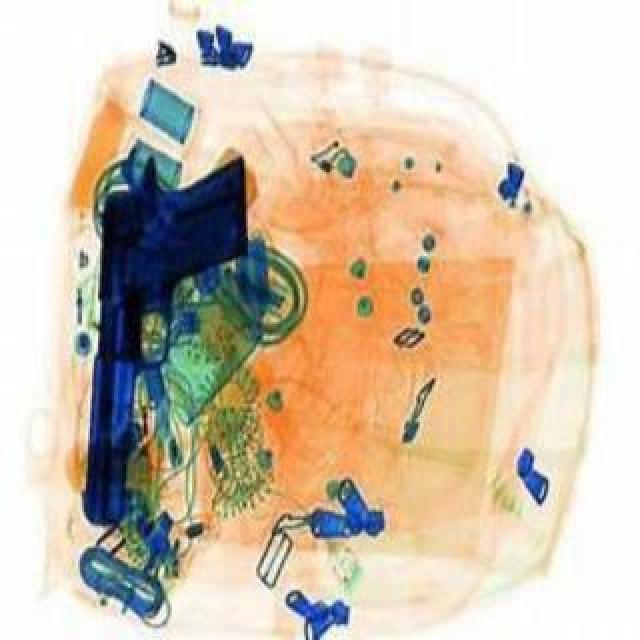gun: (78, 144, 250, 524)
